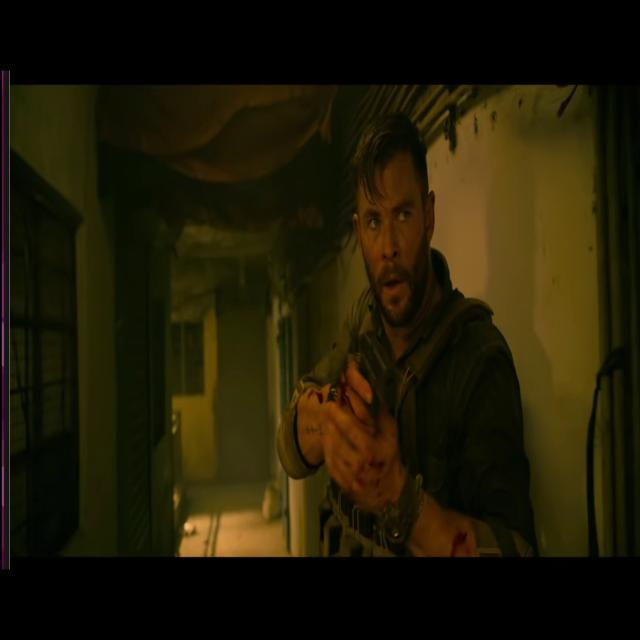weapons: (318, 296, 407, 469)
